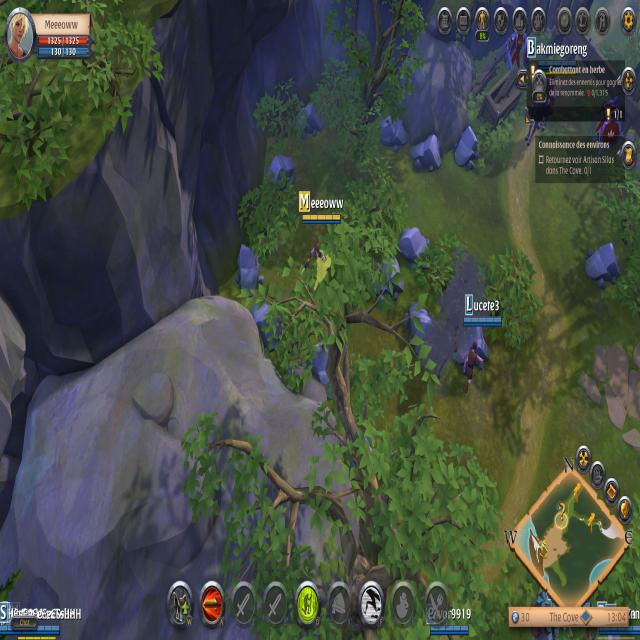stone: (401, 296, 435, 359), (368, 255, 406, 304), (308, 339, 338, 398), (584, 243, 622, 288), (398, 222, 432, 272), (234, 240, 265, 294), (250, 301, 284, 350), (409, 130, 443, 175), (260, 152, 296, 193), (452, 124, 481, 172), (377, 111, 409, 154), (290, 100, 324, 140)
